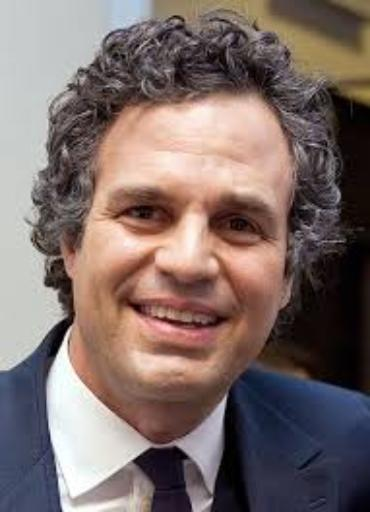left_eye: (217, 215, 264, 238)
left_lip_corner: (221, 311, 239, 333)
right_eye: (117, 202, 174, 228)
right_lip_corner: (121, 295, 141, 320)
